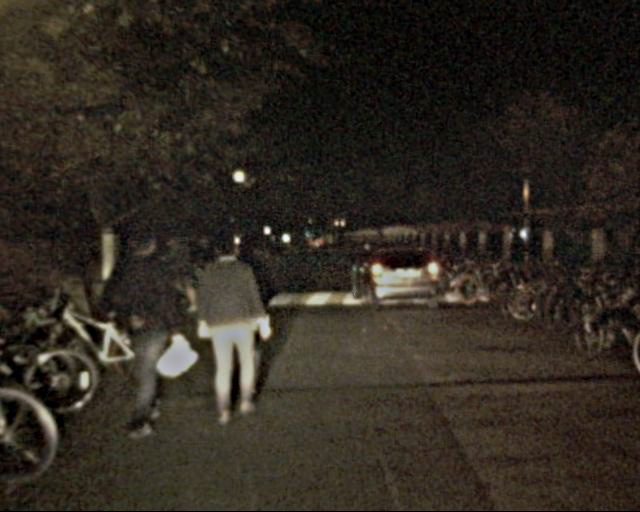person: (96, 222, 188, 440), (187, 238, 272, 419), (215, 235, 281, 388), (150, 228, 201, 336)
